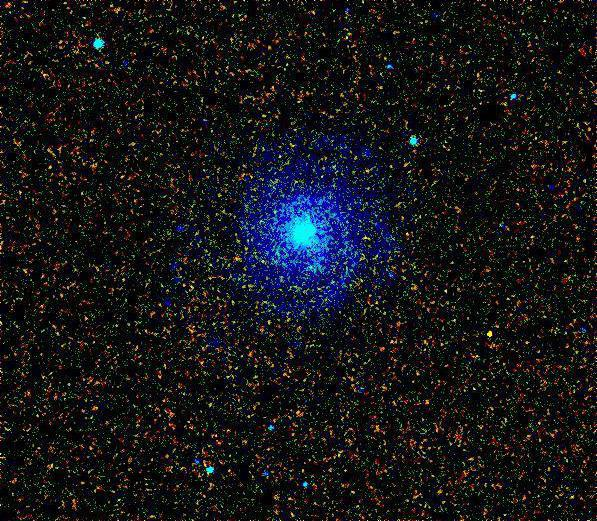star: (474, 317, 504, 347)
